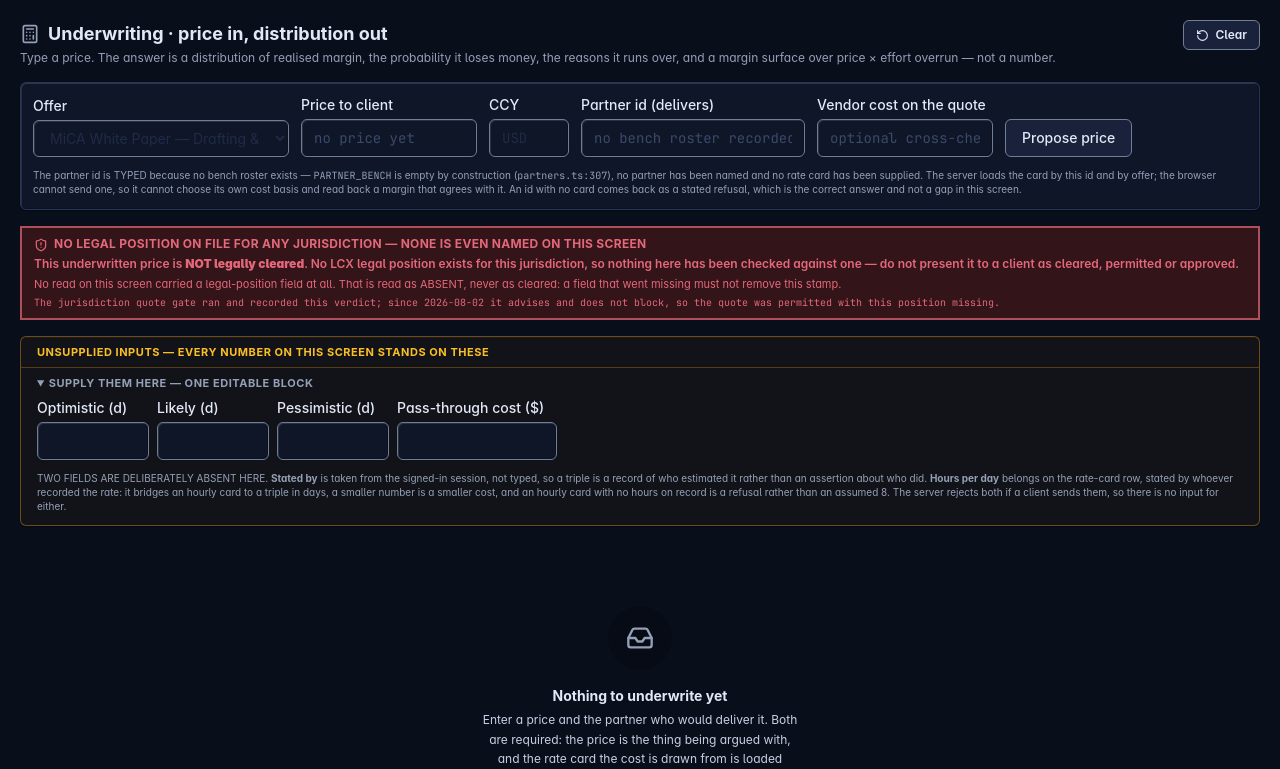
it: explainability and the argument back › names the variance driver and prints the devil advocate source, not just its claims
In the field with test id "price-input": [389, 138] box [301,119,477,157], type "10000"
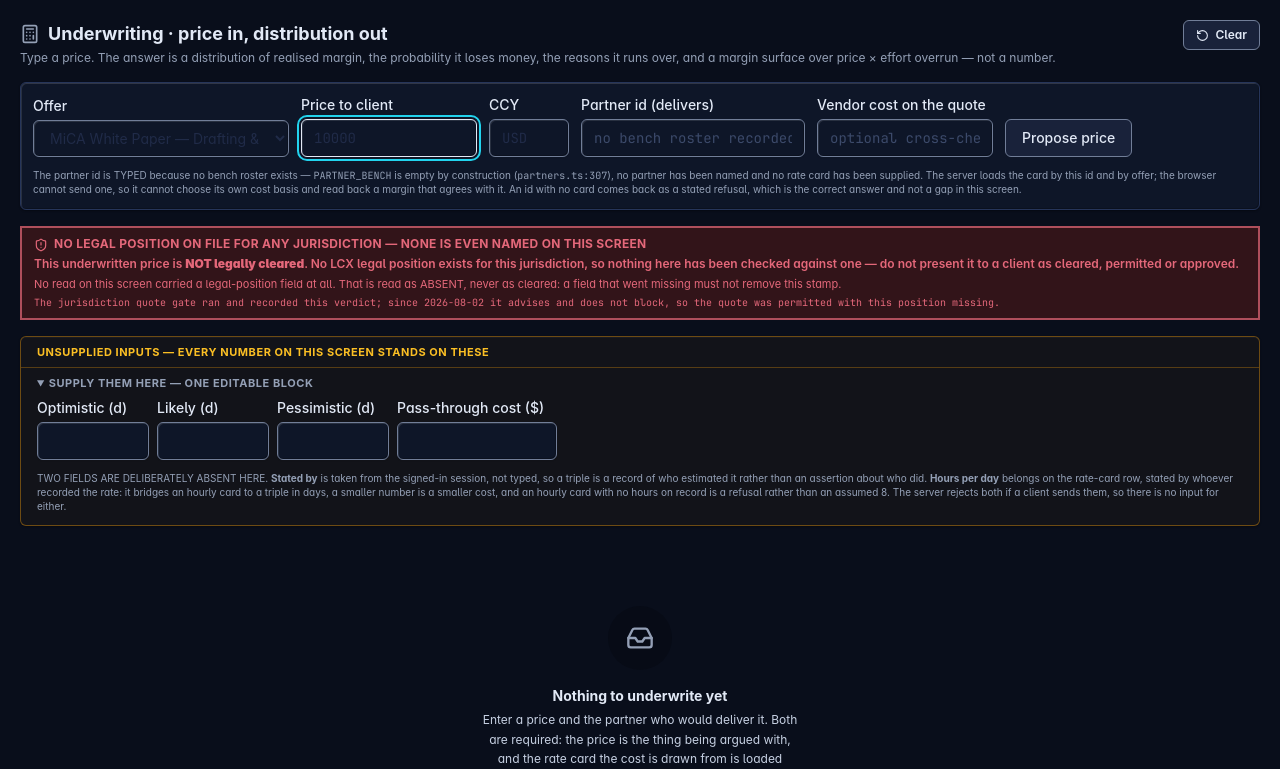
In the field with test id "partner-input": [693, 138] box [581,119,805,157], type "partner-1"
(page scrolled)
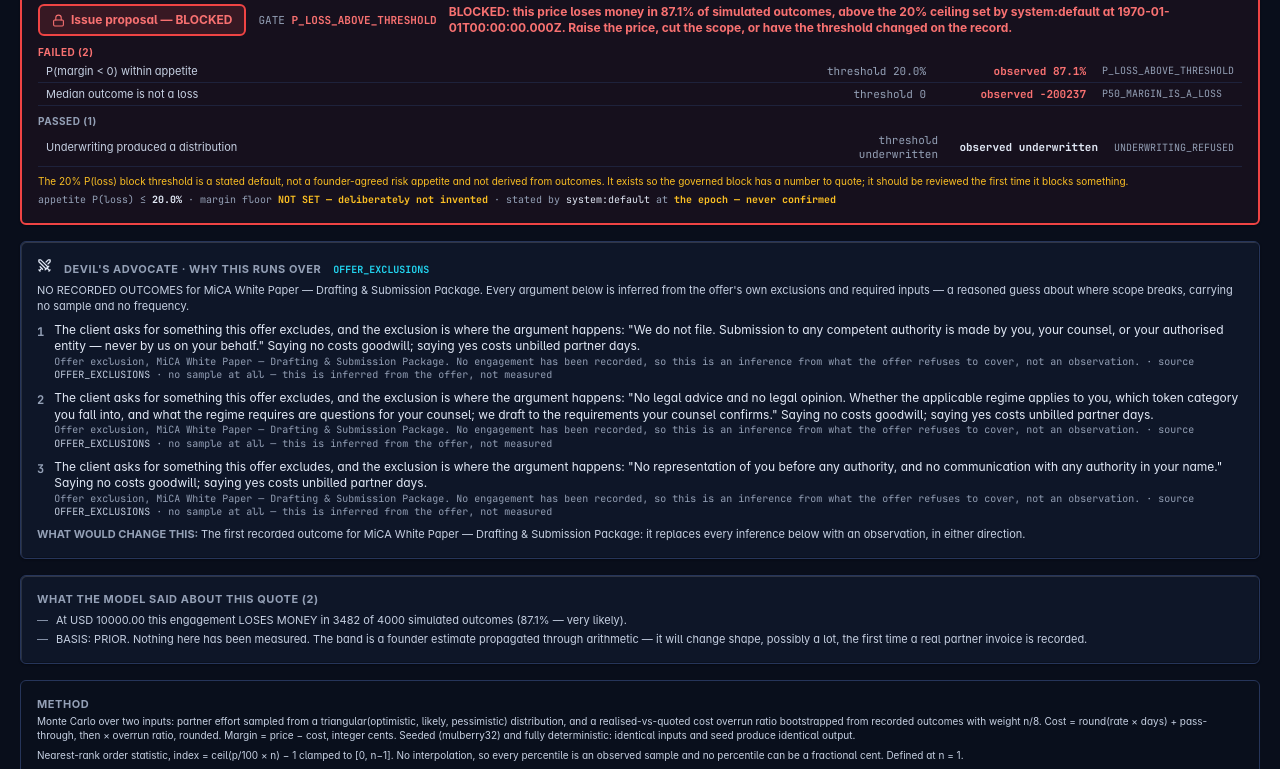
Check: the text with test id "advocate-source" reads "offer_exclusions", box [333,264,429,276]
